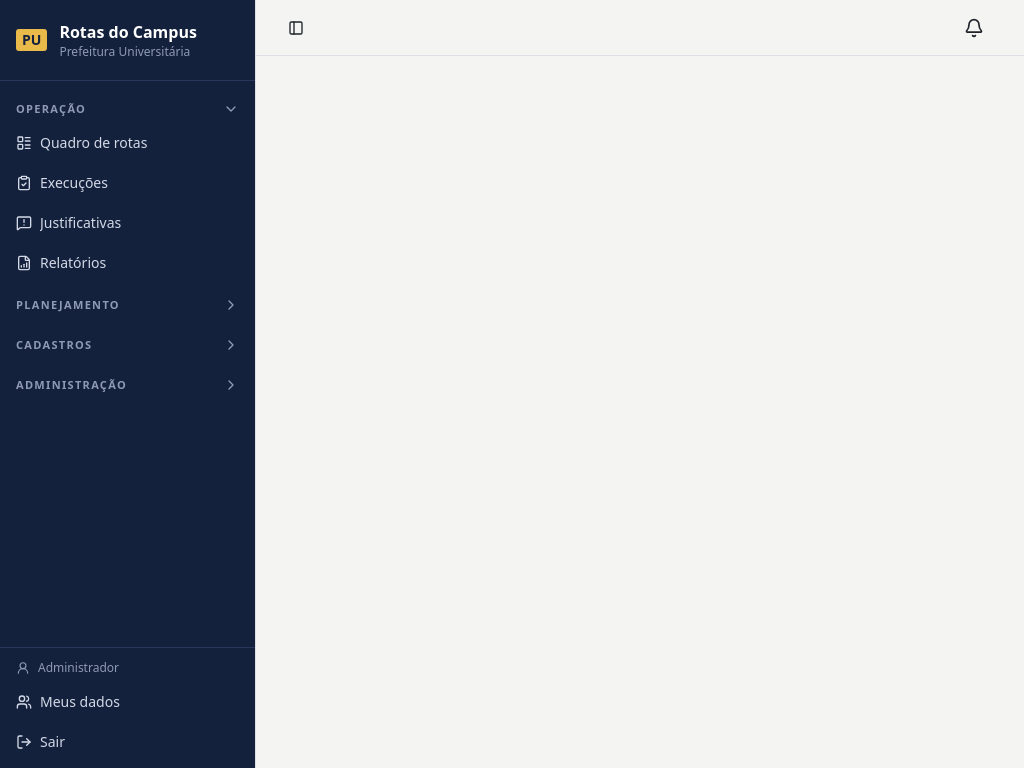
Scenario: AppShell navigation › shows the settings link for an admin
The width and height of the screenshot is (1024, 768).
Click the button "Administração" at coordinates (128, 385), box [8,369,247,401]
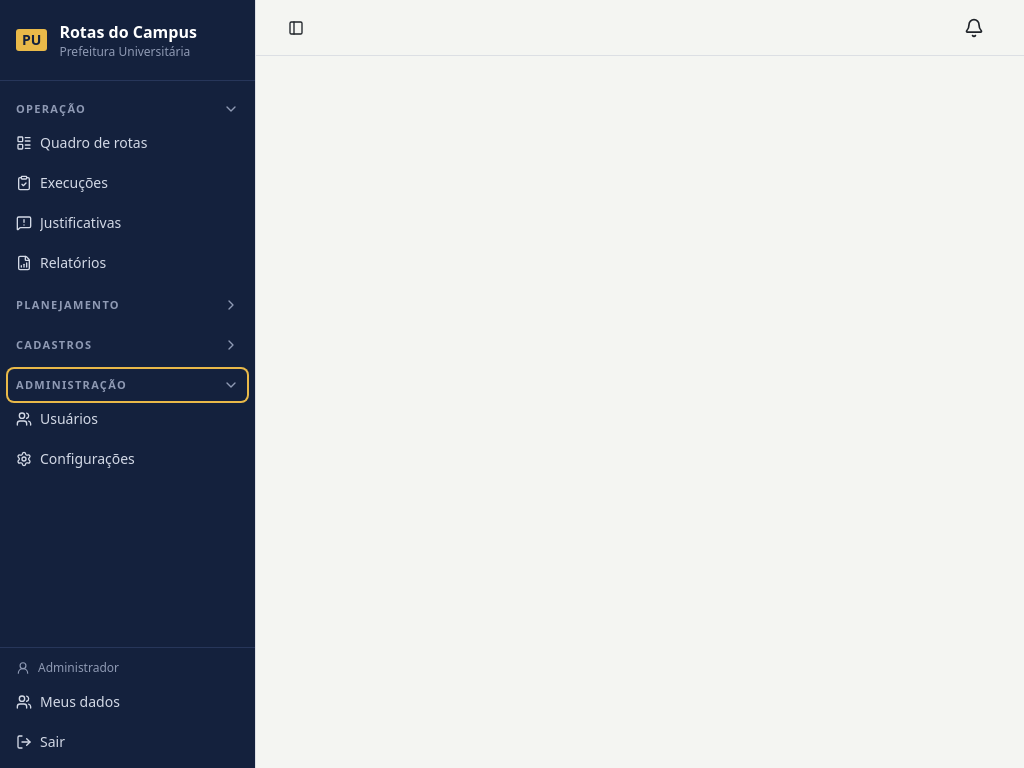
Now the link "Configurações" is shown, box [16,449,135,468]
